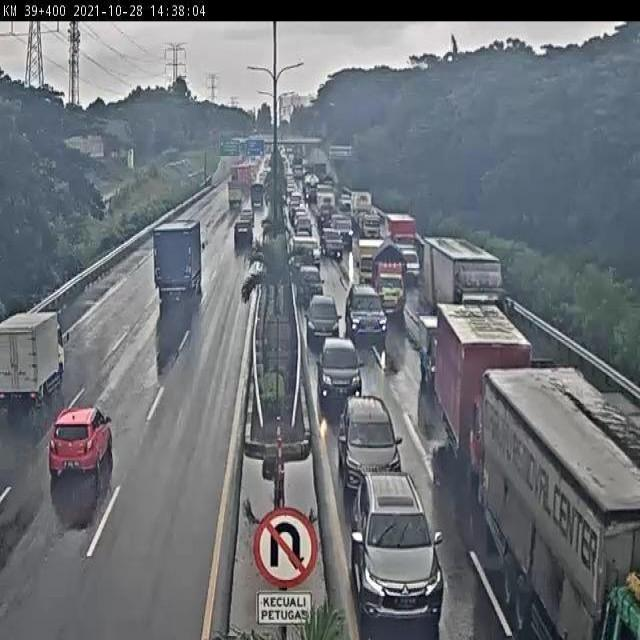big truck: (473, 354, 640, 640), (433, 299, 534, 469), (421, 233, 529, 348)
car: (347, 457, 444, 615), (338, 387, 403, 484), (47, 403, 123, 480), (316, 339, 370, 412), (342, 279, 390, 345), (303, 288, 342, 343), (294, 264, 328, 308), (229, 218, 257, 254)
small truck: (0, 295, 80, 409), (145, 222, 209, 302), (372, 241, 412, 319), (416, 305, 453, 375), (223, 177, 249, 211), (249, 182, 267, 210)
